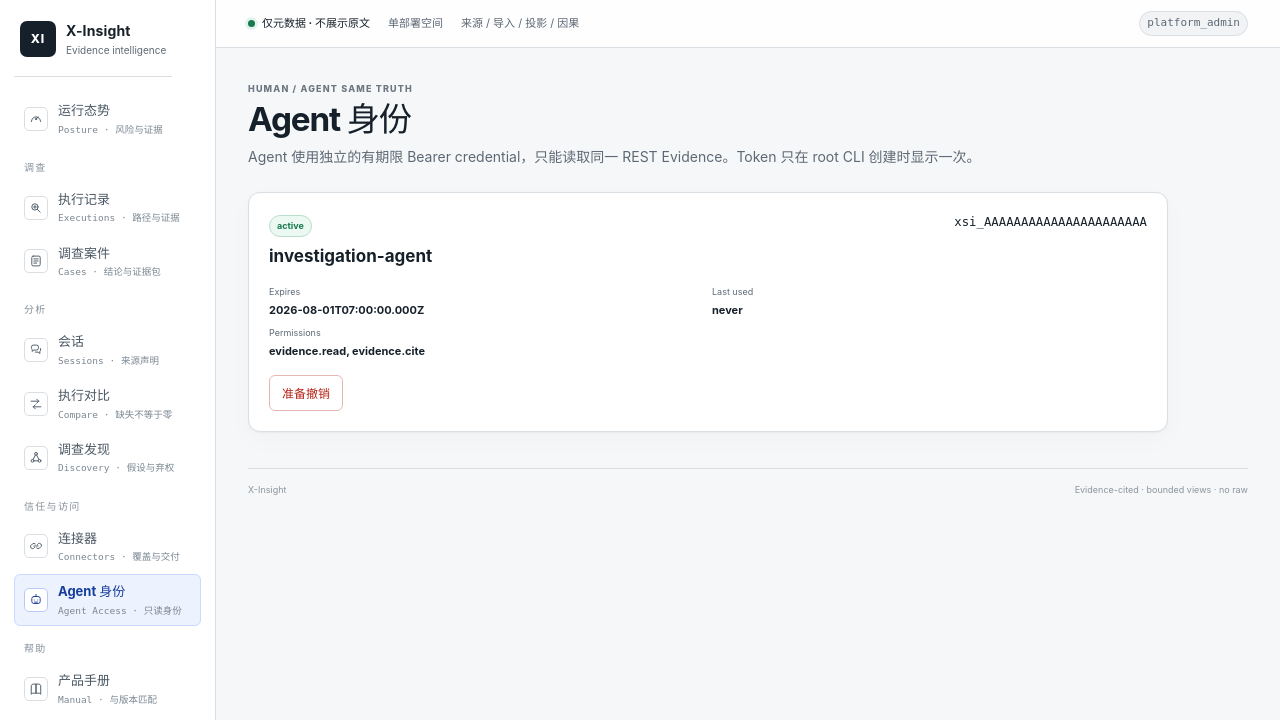
PRD2 investigation UI › requires a second action before revoking a Service identity
Click the button "准备撤销". click: (306, 393)
box: [269,375,343,411]
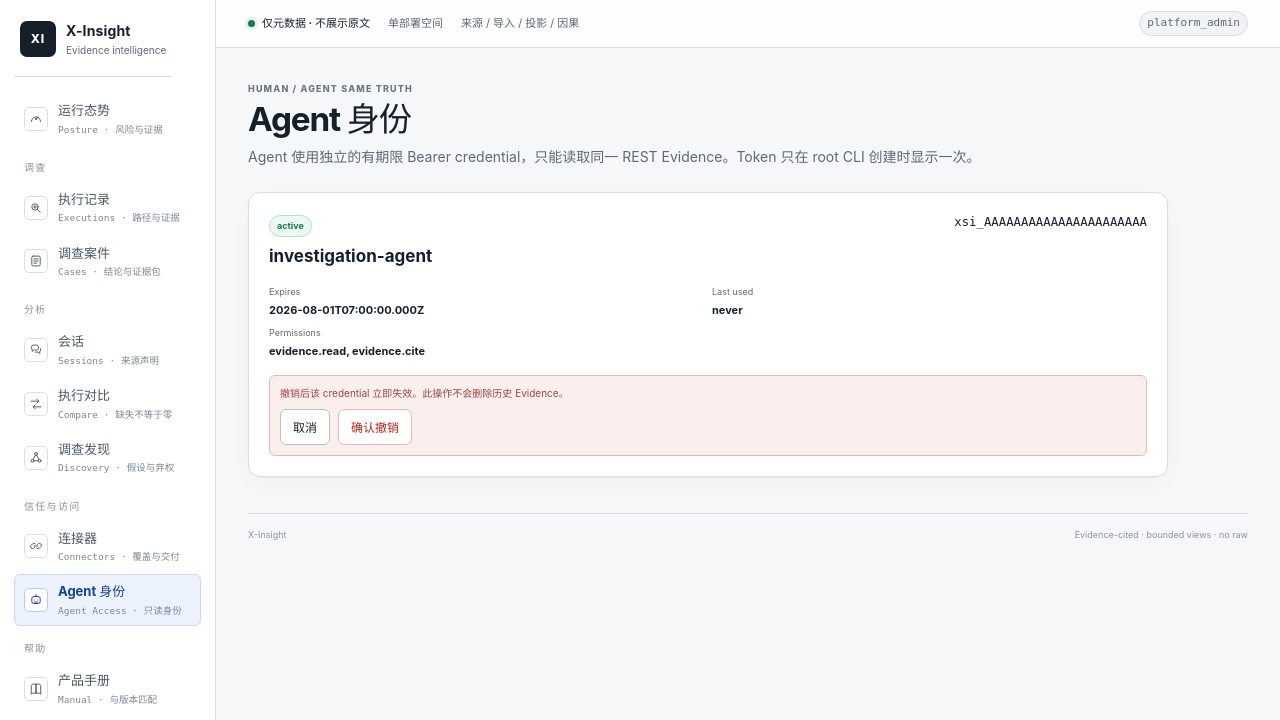
Now the text "撤销后该 credential 立即失效。此操作不会删除历史 Evidence。" is shown, box [280,387,569,399]
Click the button "确认撤销". click: (375, 427)
box: [338,409,412,445]
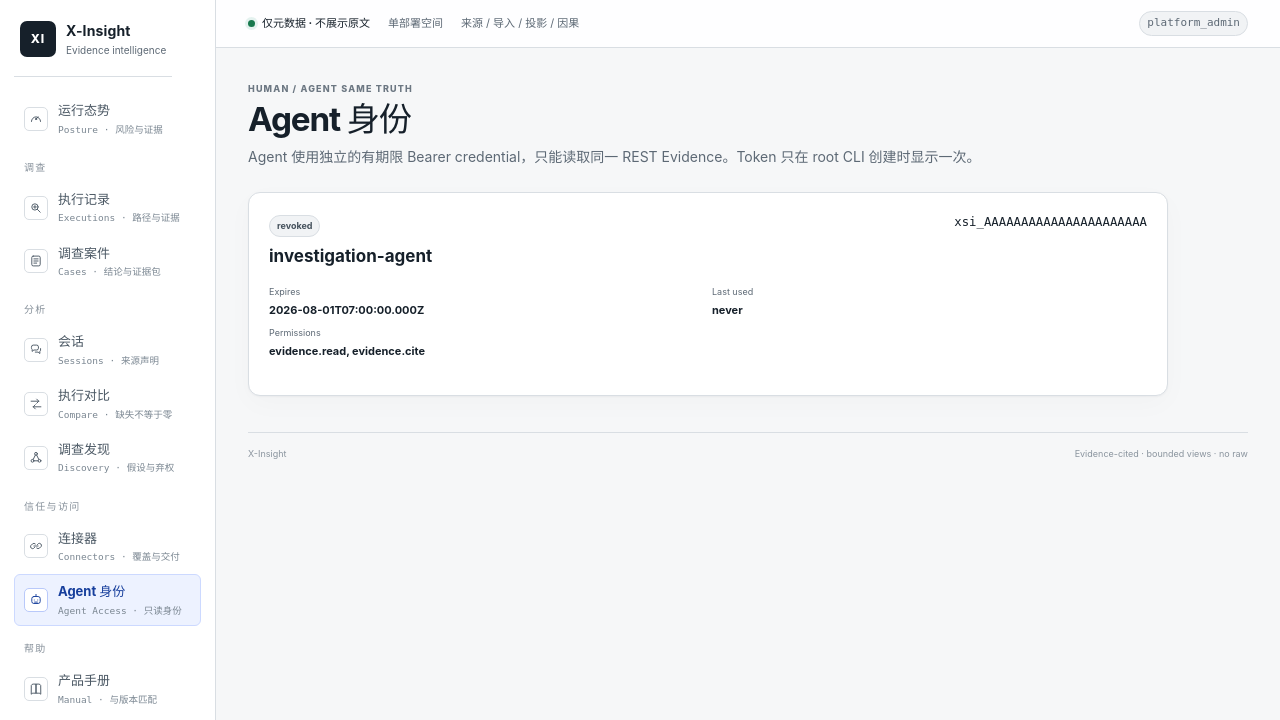
Now the text "revoked" is shown, box [269,215,320,237]
